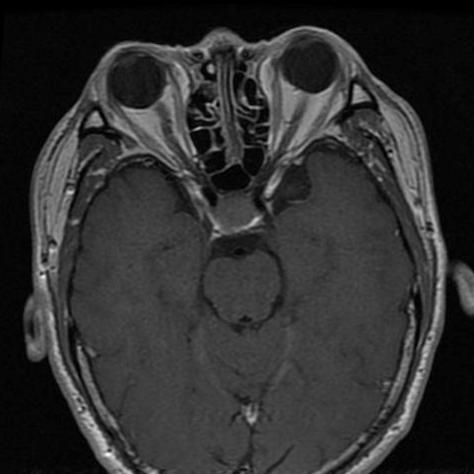Tumour-Pituitary: (208, 195, 261, 242)
